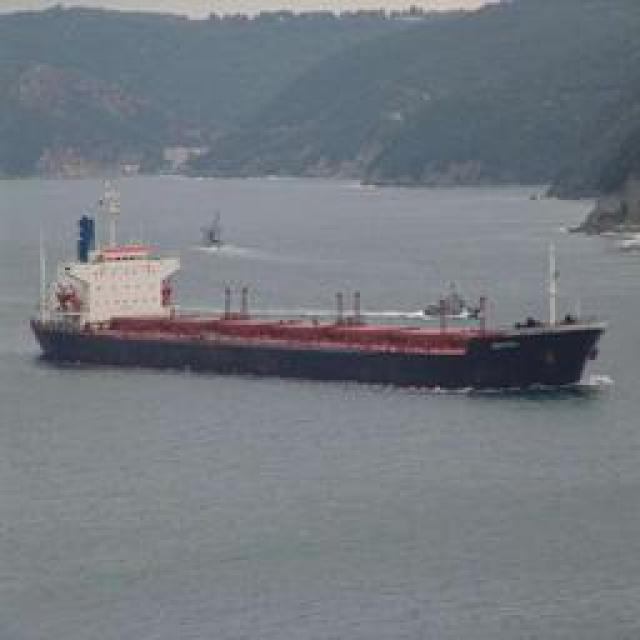CIV_Ship: (24, 224, 622, 386)
